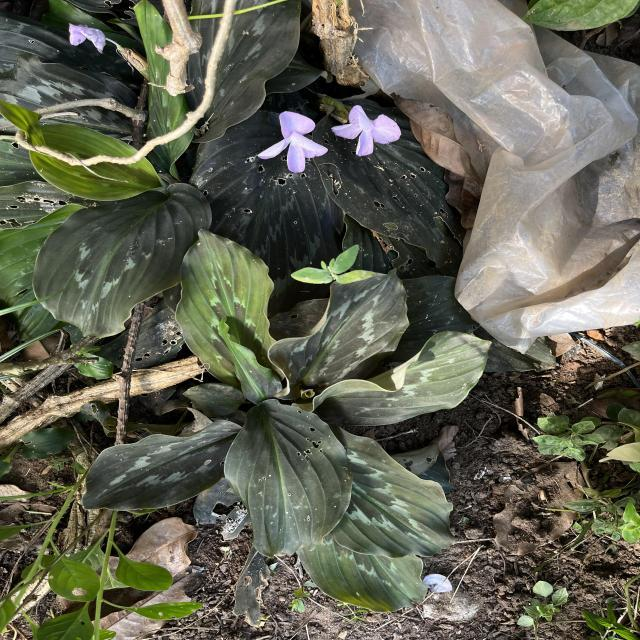Kaempferia galanga linn: (30, 181, 214, 340), (222, 396, 354, 561), (290, 329, 494, 428), (319, 419, 457, 561), (266, 266, 410, 402), (172, 224, 285, 388), (79, 418, 242, 512), (214, 314, 285, 406)
